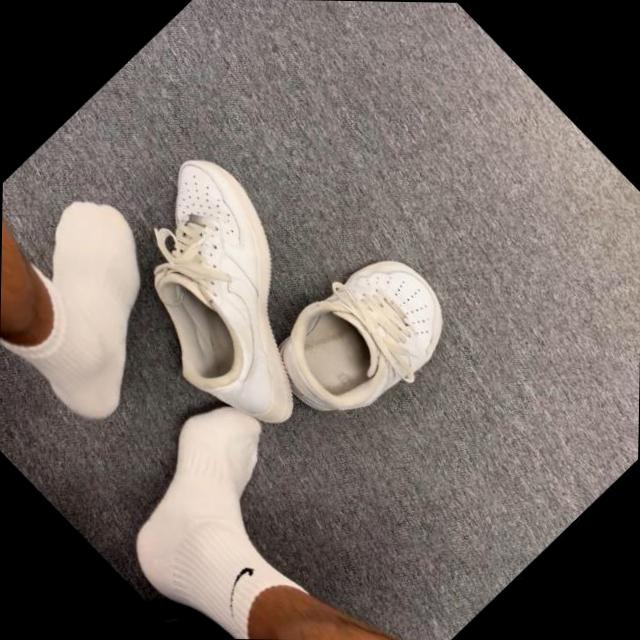nike_original_airforce: (54, 134, 381, 462), (246, 220, 476, 450)
